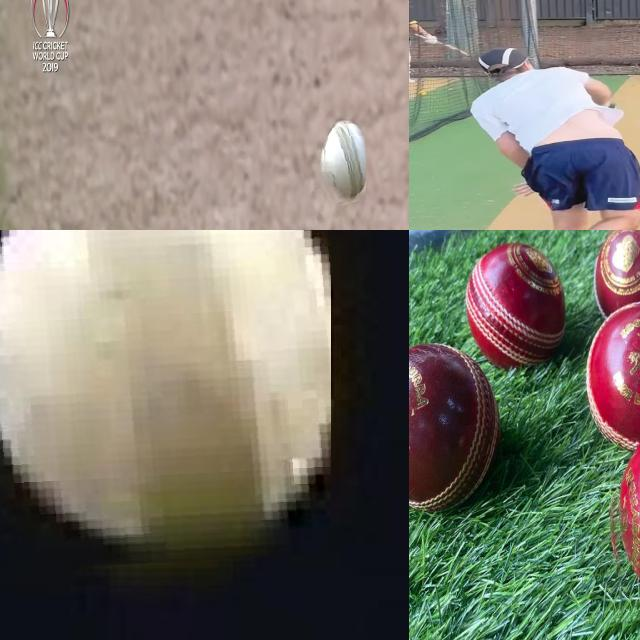Cricket ball: (0, 230, 331, 571), (409, 340, 502, 519), (463, 237, 576, 374), (604, 408, 640, 634), (585, 298, 640, 422), (321, 119, 366, 203), (591, 230, 640, 302)
